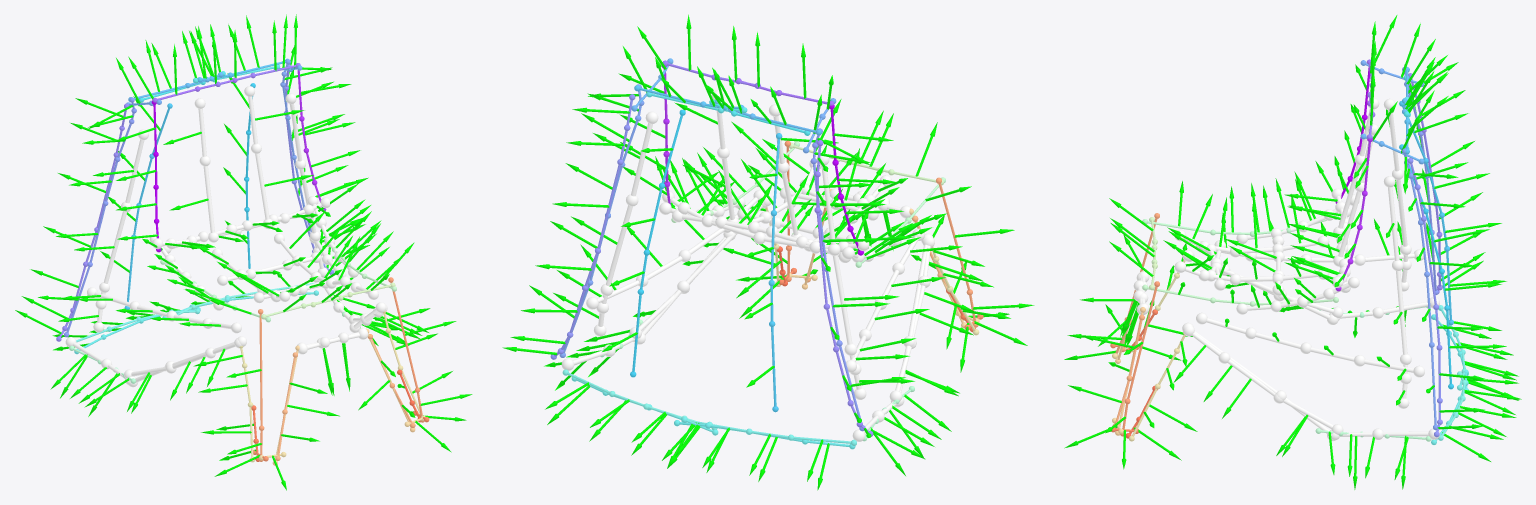
File: author1_chair_ff.gltf
3 views of the same model, side by side, from view 1: azimuth 30°, elevation 25°; view 2: azimuth 150°, elevation 25°; view 3: azimuth 270°, elevation 25° (orthographic). The views are drawn at different scales.
Size of the model in its own units: 0.6929 by 0.6905 by 0.7792.
